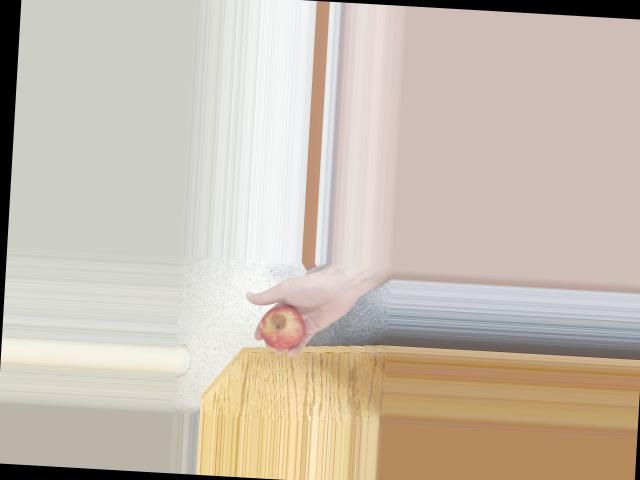apple: (252, 298, 324, 355)
